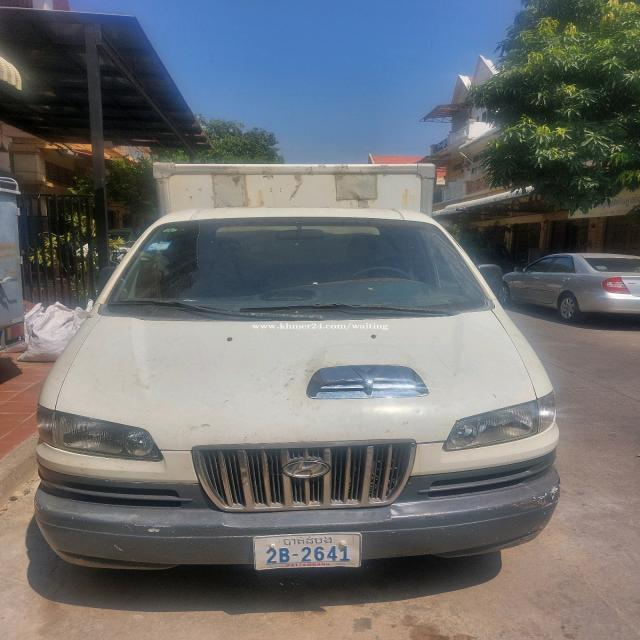Battambang: (283, 534, 334, 546)
